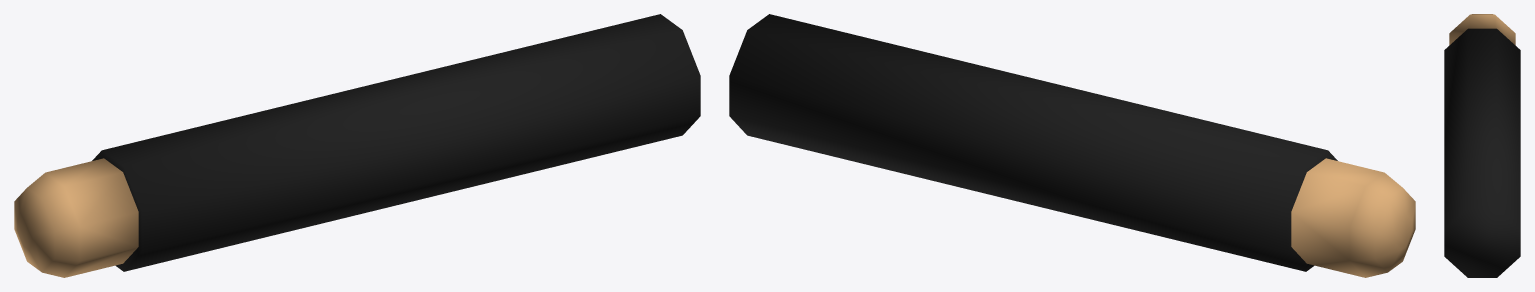
File: hand.fbx
3 views of the same model, side by side, from view 1: azimuth 30°, elevation 25°; view 2: azimuth 150°, elevation 25°; view 3: azimuth 270°, elevation 25° (orthographic). The views are drawn at different scales.
Parts seen in each view (by area): view 1: Cube; view 2: Cube; view 3: Cube.
Boxes of the visible parts, <box> form: Cube: <box>14,14,700,277</box>; Cube: <box>729,14,1415,277</box>; Cube: <box>1444,14,1520,277</box>.
Size of the model in its own units: 1478 by 231 by 231.
